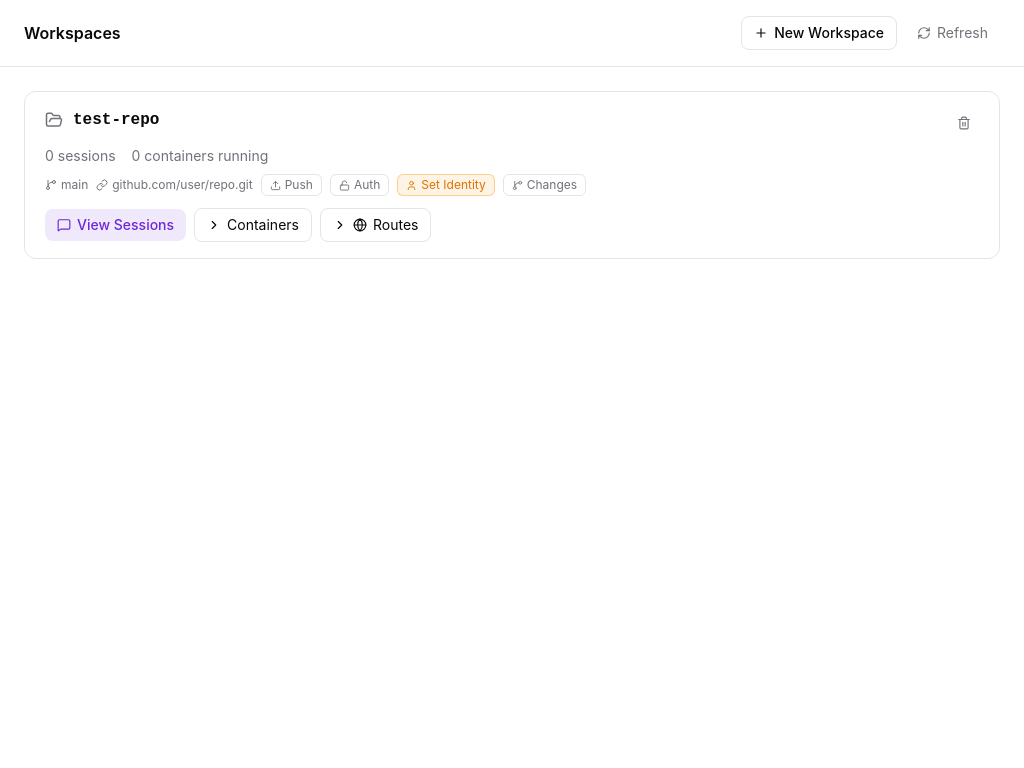
it: Dashboard — Git auth UI › shows Provider select and token input in auth configure panel
// Click the Auth badge to open configure panel
Click the button "Auth" at (360, 185), box [330,174,389,196]
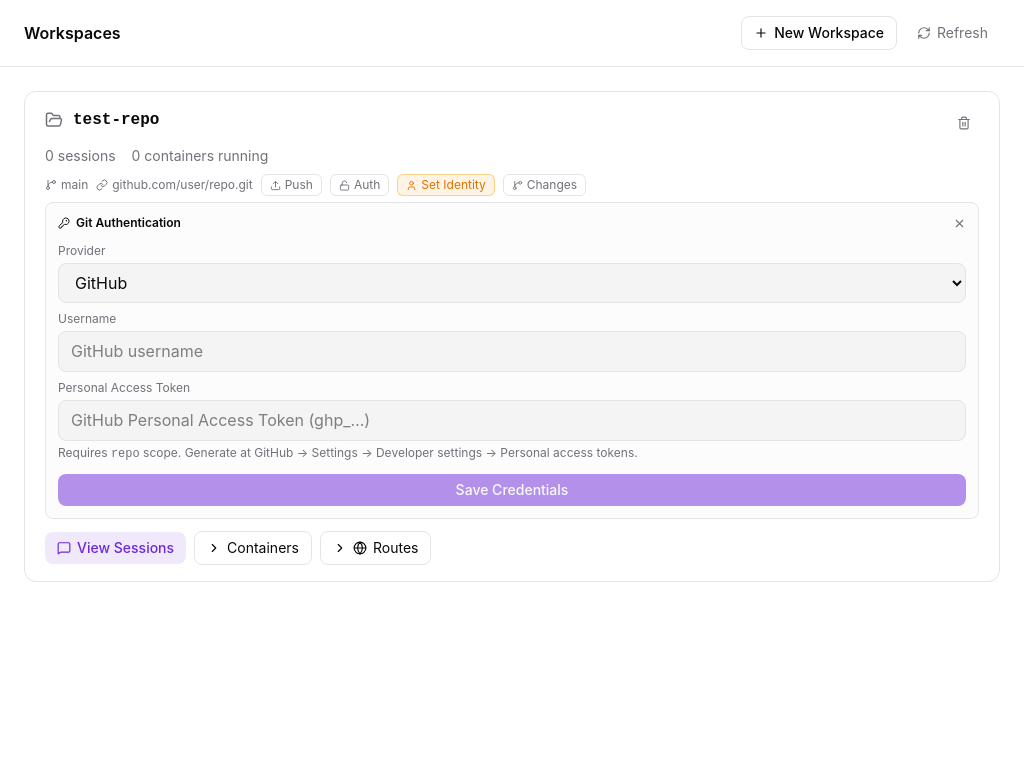
Expected: the text "Provider" is shown, [58,243,106,258]
Expected: the text "Personal Access Token" is shown, [58,380,190,395]
